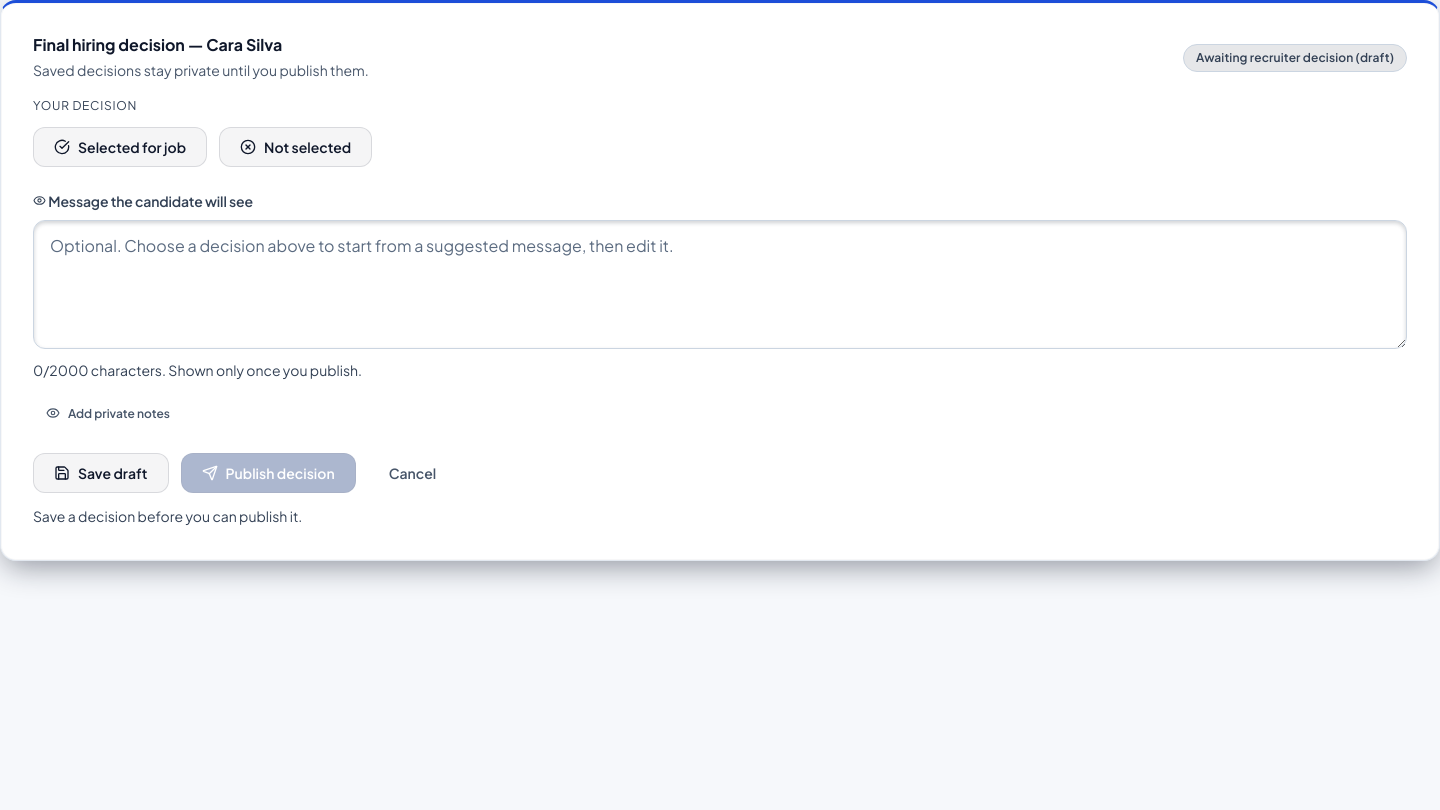
Test: a refused save is reported
Click the button "Selected for job": (120, 147) [33, 127, 207, 167]
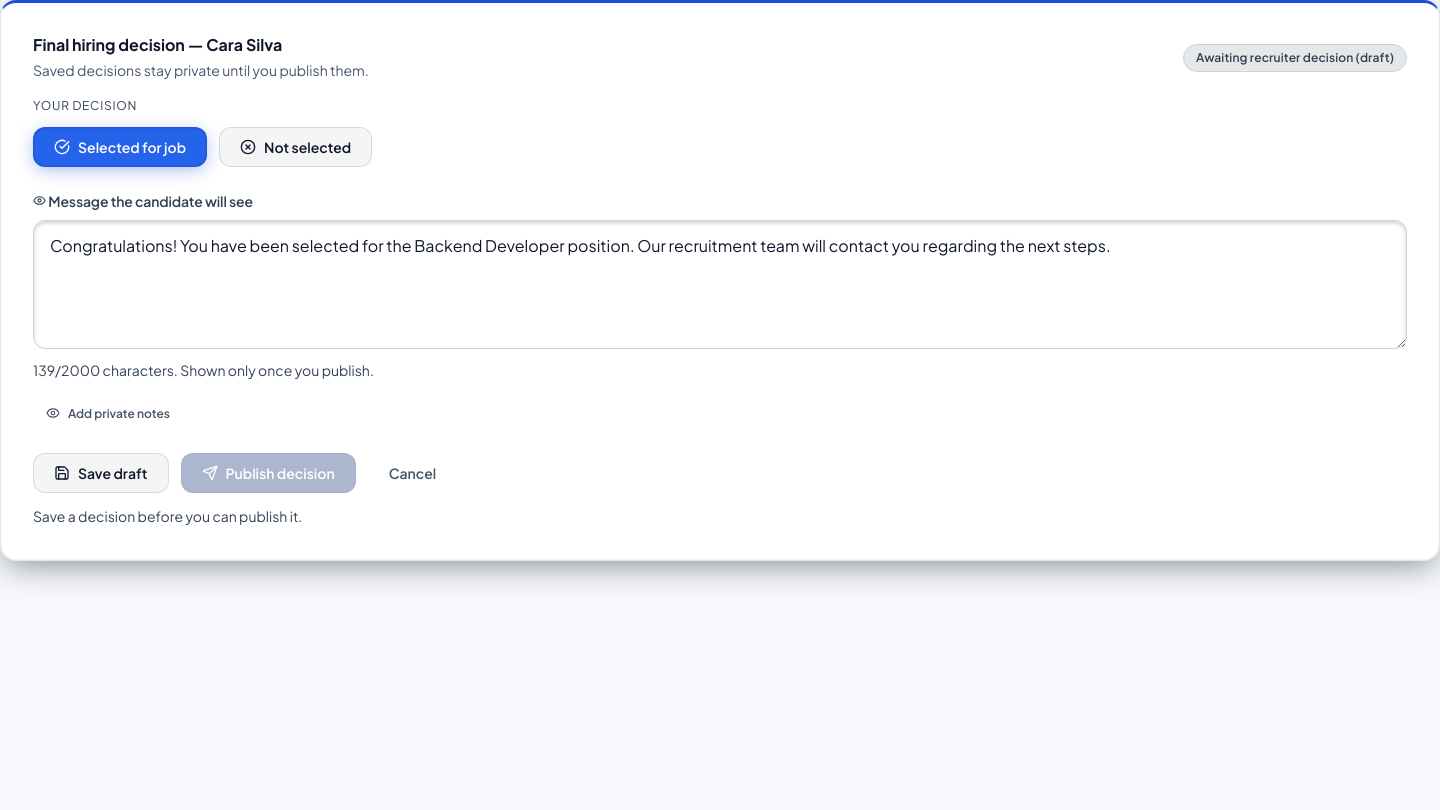
Click the button "Save draft": (101, 473) [33, 453, 168, 493]
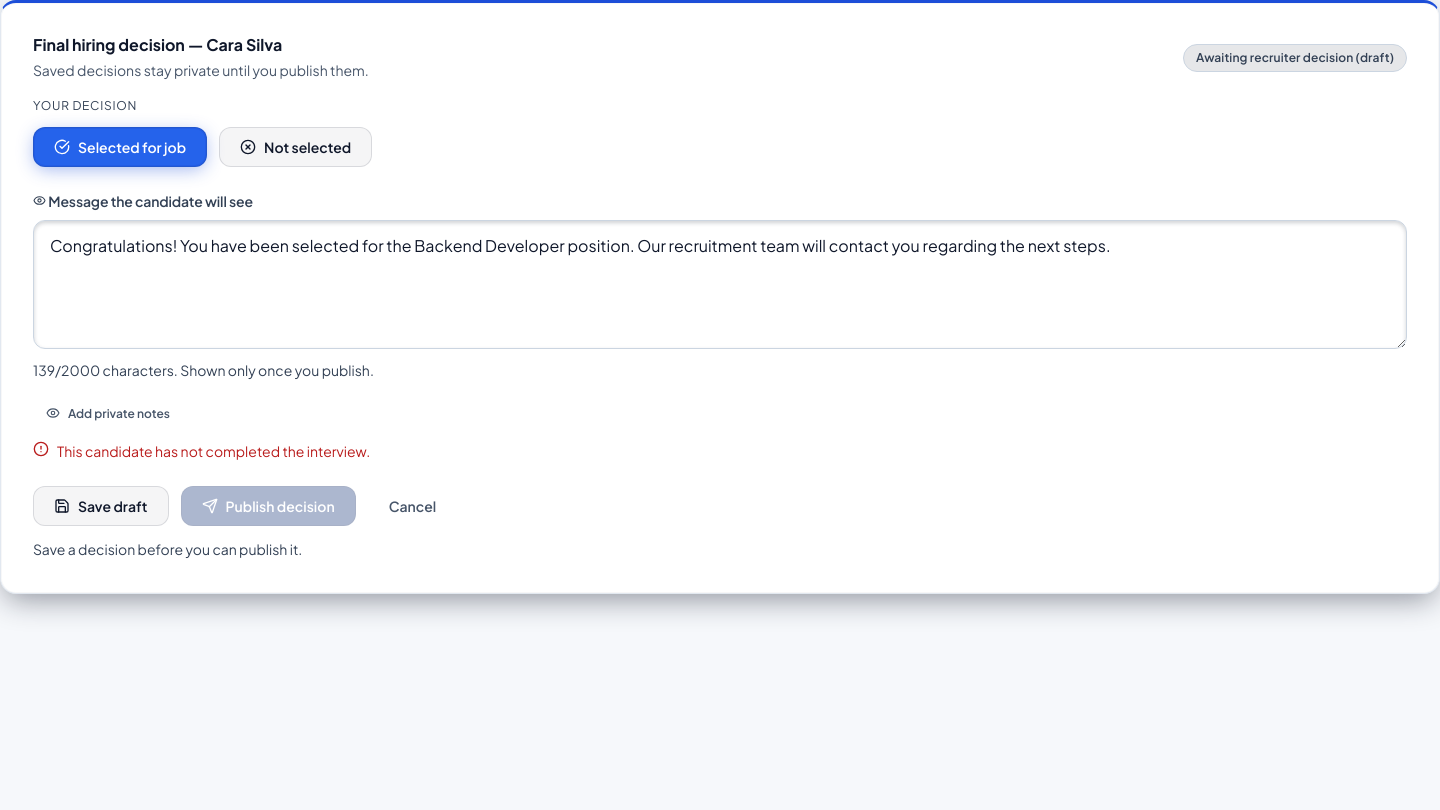
expect the message "This candidate has not completed the interview." is shown: met, box [33, 441, 370, 460]
